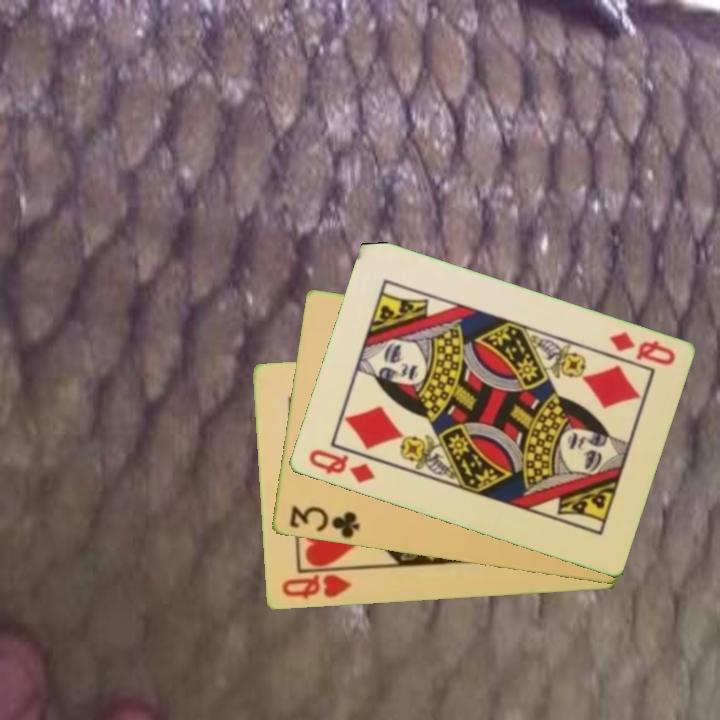3c: (285, 502, 362, 542)
Qd: (605, 328, 678, 369), (304, 446, 378, 486)
Qh: (278, 571, 354, 602)
